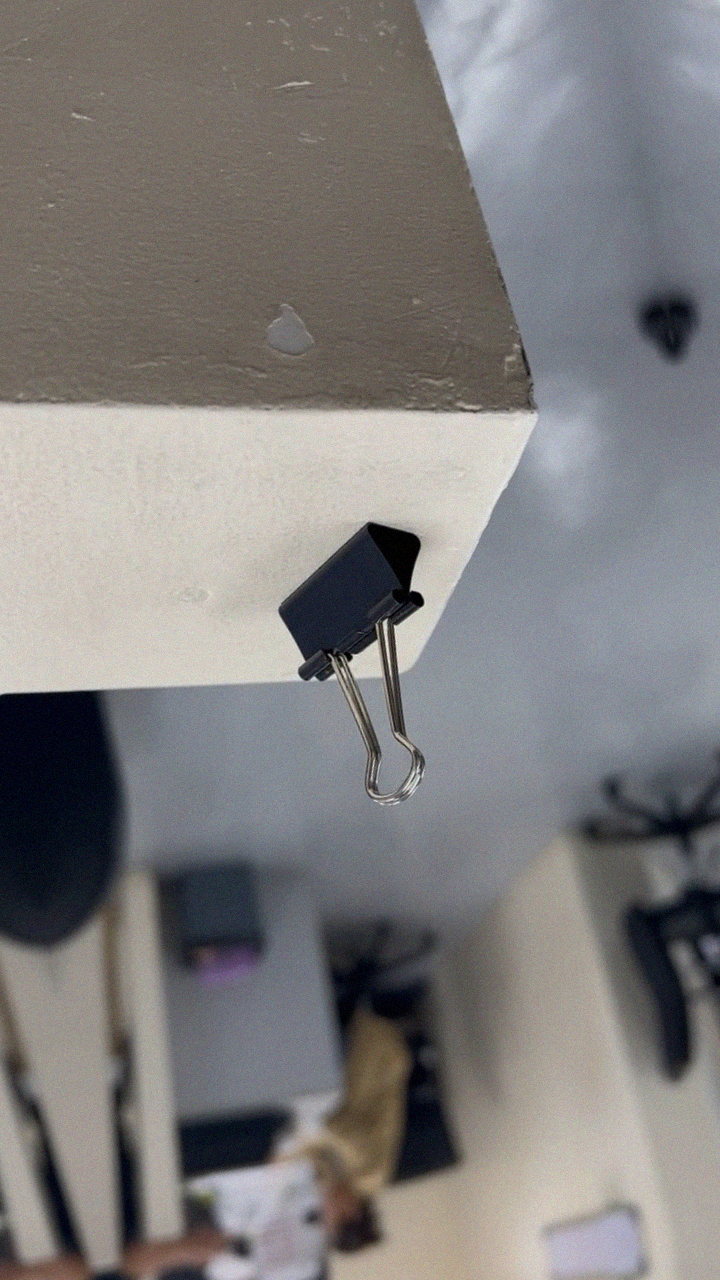kep_giay: (253, 508, 473, 822)
